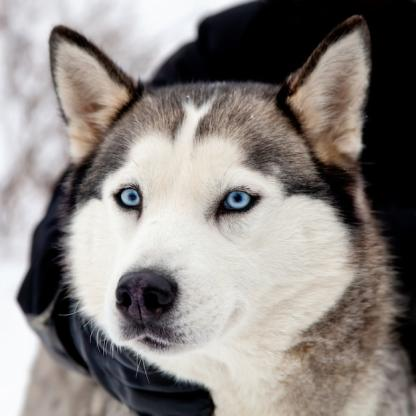husky: (40, 25, 416, 416)
